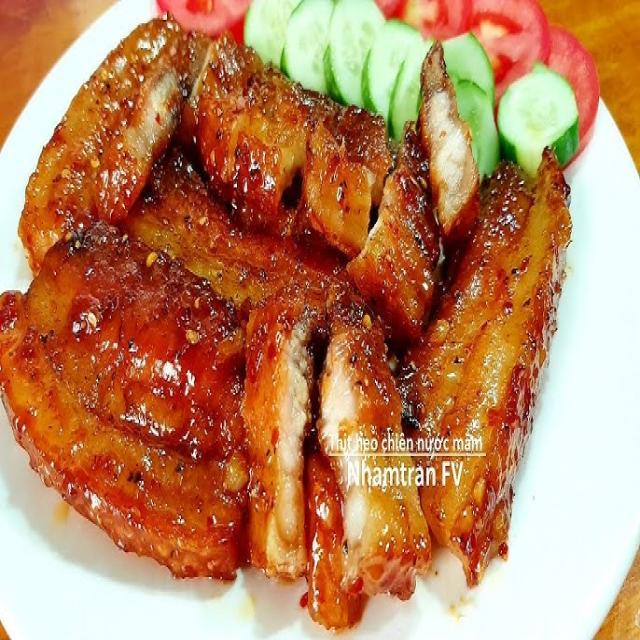dua leo: (498, 63, 578, 174), (444, 43, 499, 174), (324, 0, 384, 106), (363, 20, 422, 119), (387, 22, 432, 138), (282, 0, 335, 91), (443, 33, 493, 113), (244, 0, 301, 65)
thit chien: (0, 224, 248, 577), (401, 149, 570, 584), (20, 20, 209, 269), (305, 303, 430, 628), (242, 249, 337, 574), (124, 149, 293, 307), (347, 124, 442, 338), (418, 43, 480, 242)
